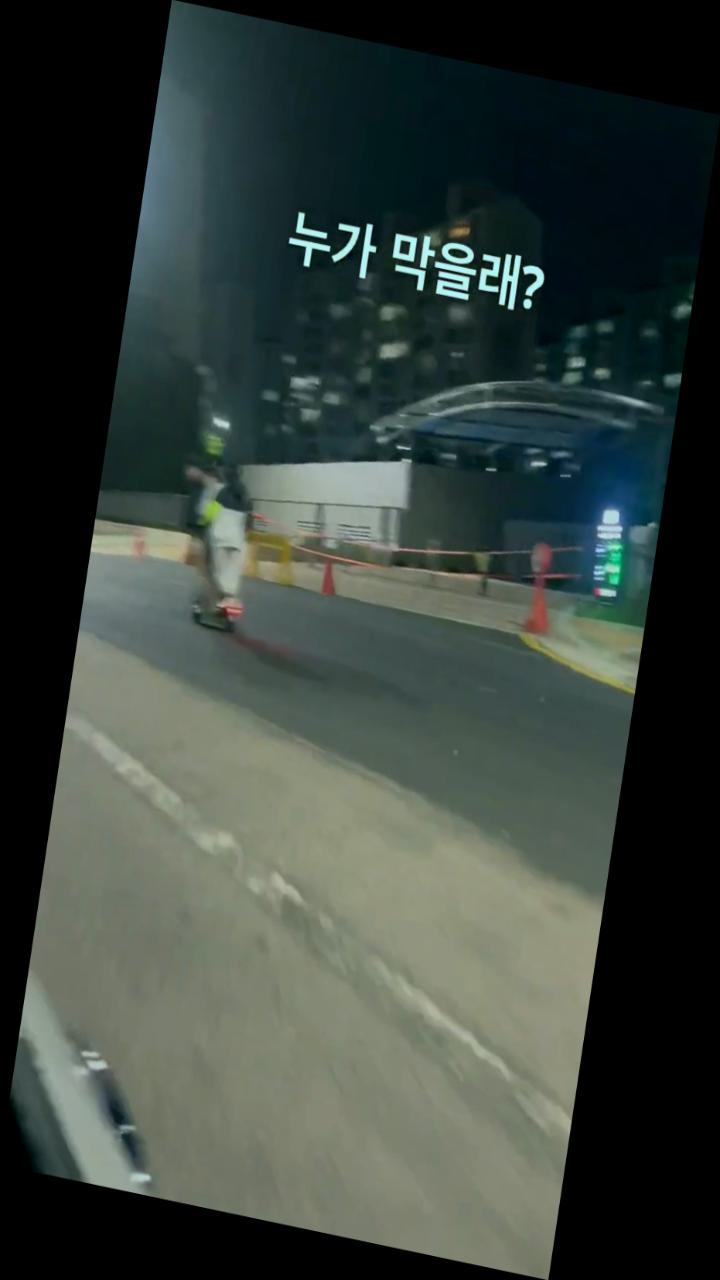multiple: (159, 447, 269, 641)
